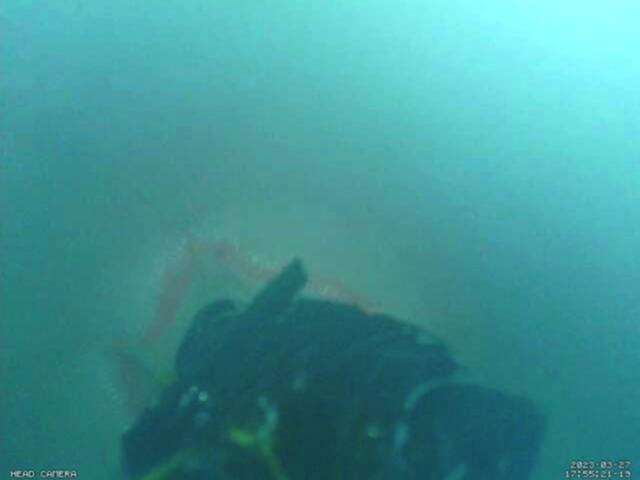head: (109, 235, 381, 418)
